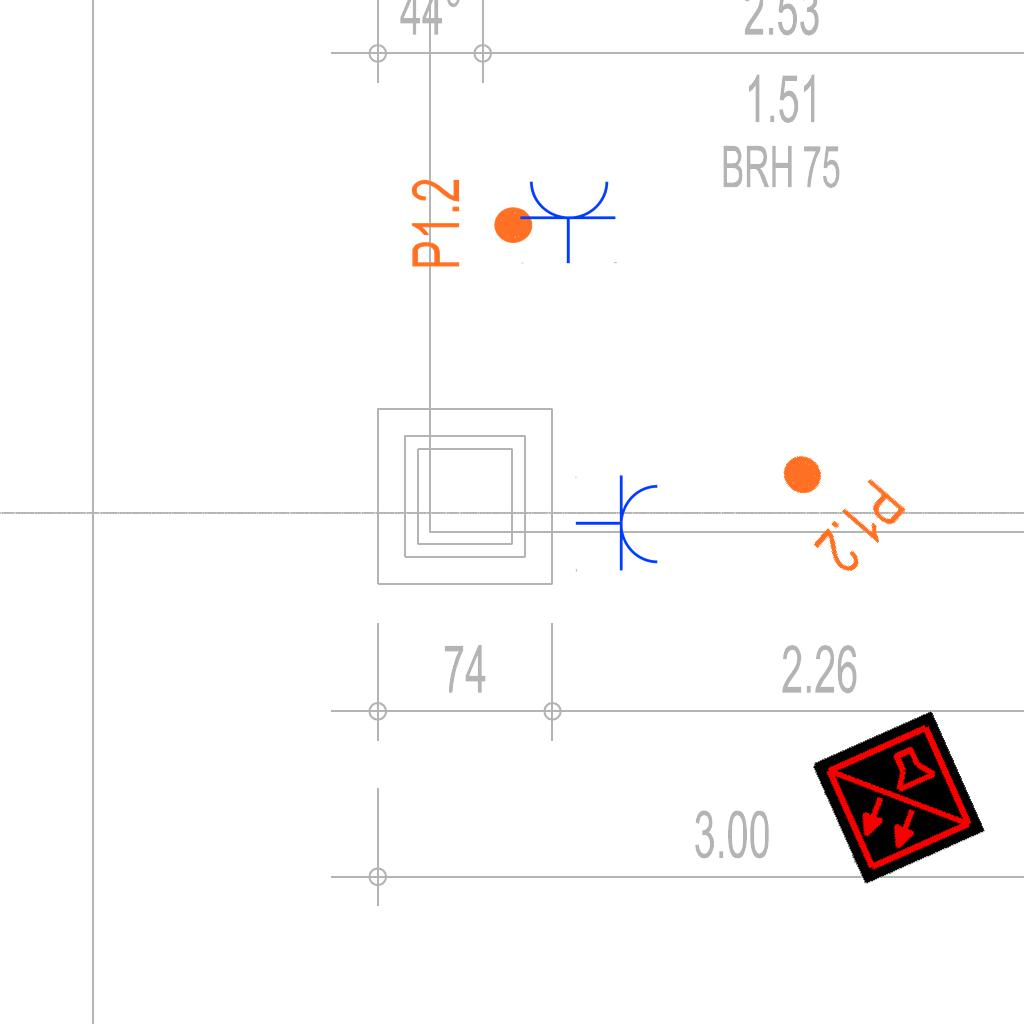Downlight_LED_Einbauleuchten_Flur: (753, 425, 912, 581), (408, 177, 536, 270)
OKW_Multisensormelder_(Kombination_optischer_Rauch-Kahlenmonoxid_Waerme-Melder): (810, 710, 986, 886)
Schukosteckdose_einfach: (519, 177, 619, 264), (575, 474, 662, 574)
